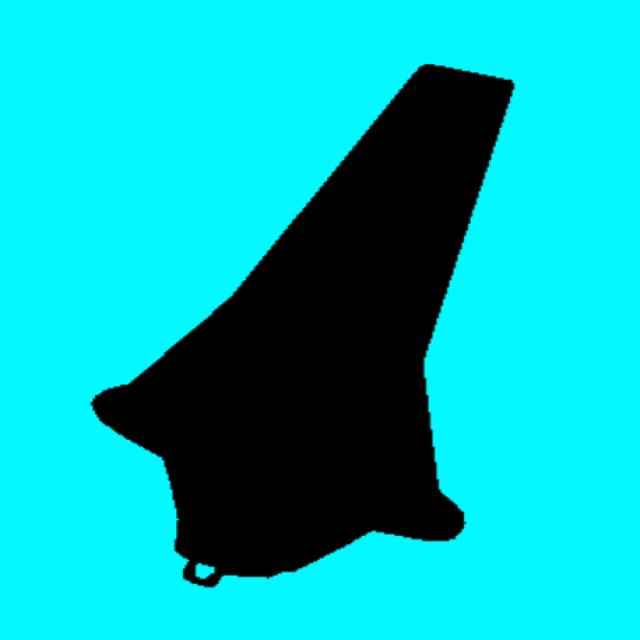BlackBuoy: (89, 64, 516, 591)
